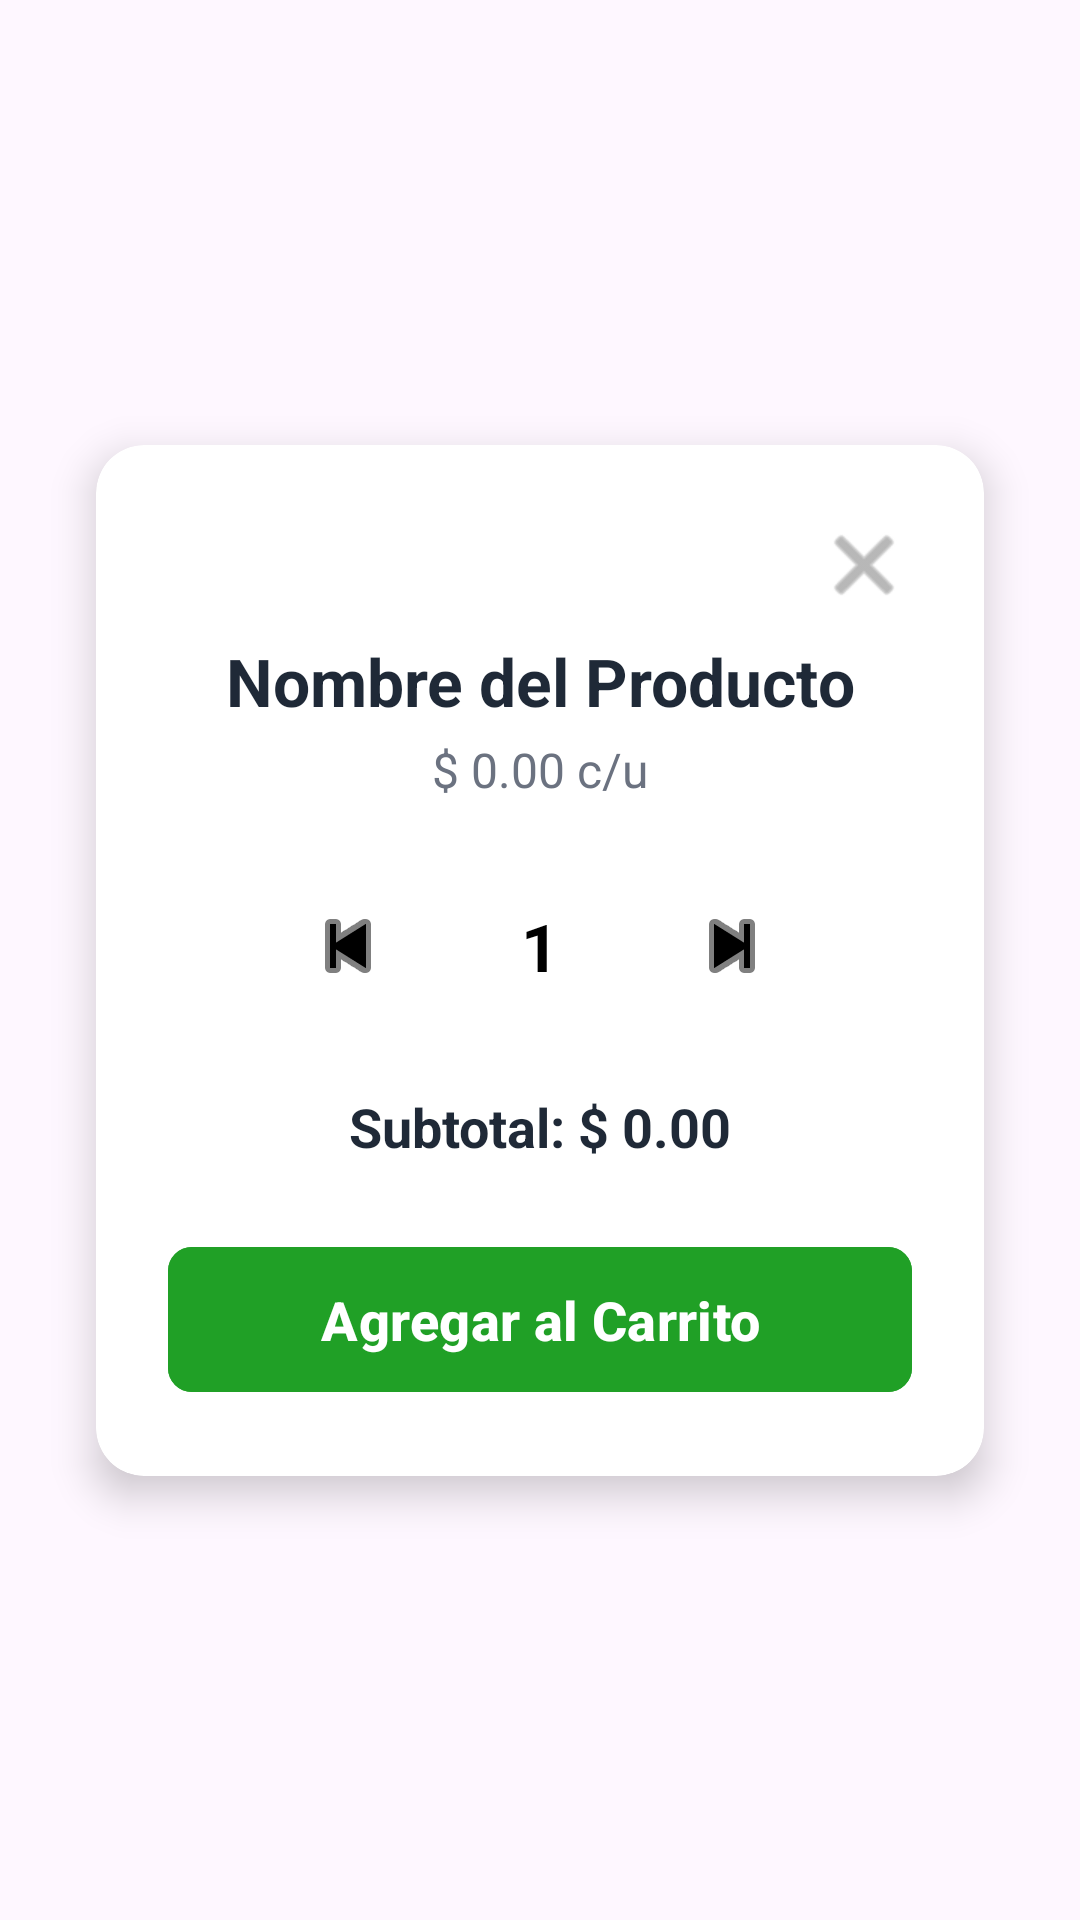

Locate icon controls on the screen. Image size 1080w x 1920h, boxes as Rect(x1, y1, x2, y2).
close clear cancel: Rect(835, 536, 893, 594)
next: Rect(709, 919, 755, 973)
previous: Rect(325, 919, 371, 973)
